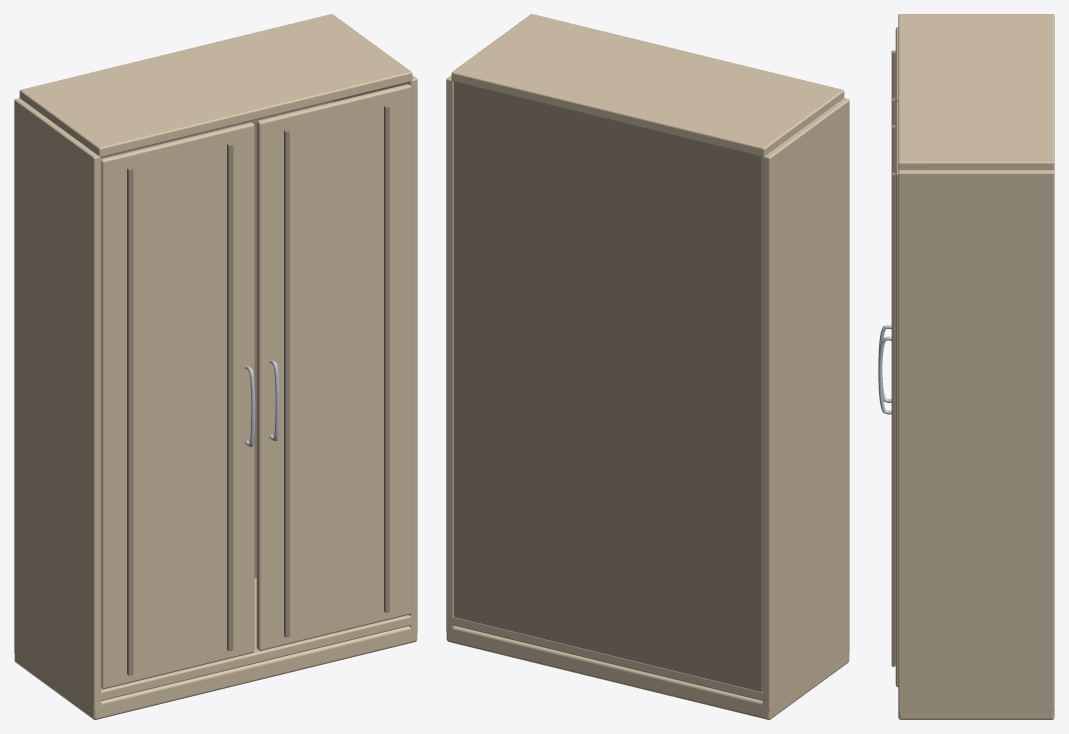
Rendered from wardrobe.glb.
The picture shows the model from 3 angles, left to right: view 1: azimuth 30°, elevation 25°; view 2: azimuth 150°, elevation 25°; view 3: azimuth 270°, elevation 25°; orthographic projection. The views are drawn at different scales.
Visible parts, largest first — view 1: wardrobe; view 2: wardrobe; view 3: wardrobe.
Part boxes in pixels (bbox=[...]): wardrobe: bbox=[14, 14, 417, 719]; wardrobe: bbox=[446, 14, 849, 719]; wardrobe: bbox=[878, 14, 1054, 719].
Bounding box in the file's own units: 1.2 × 2.02 × 0.58.
